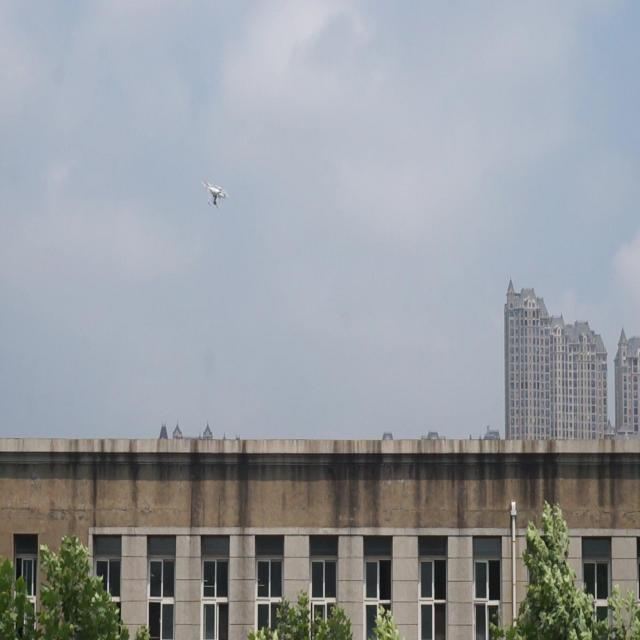UAV: (200, 181, 230, 209)
